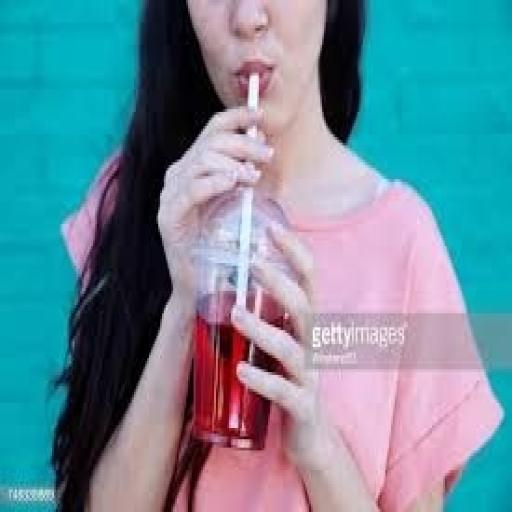drinking: (188, 70, 281, 450)
